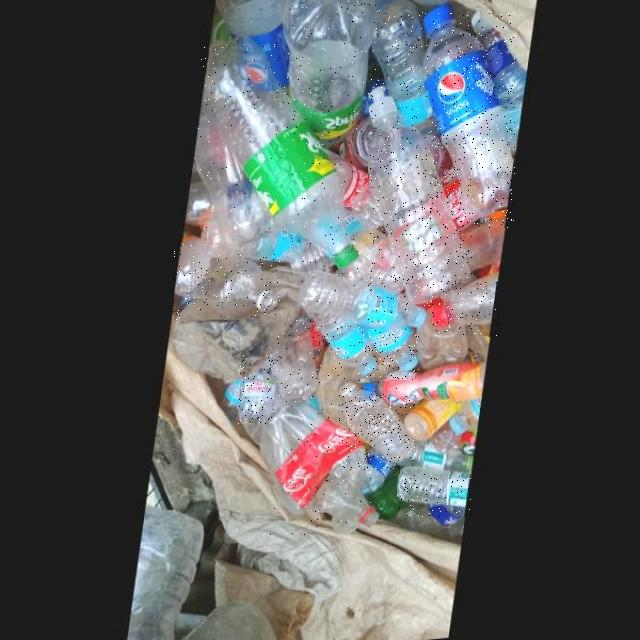plastic: (201, 41, 359, 276), (368, 93, 472, 313), (424, 13, 515, 227), (262, 404, 381, 534), (283, 1, 381, 156), (194, 111, 284, 254), (373, 8, 437, 142), (175, 242, 282, 320), (298, 276, 427, 337), (339, 388, 415, 470), (309, 320, 379, 383), (272, 315, 318, 407), (432, 282, 499, 337), (398, 474, 471, 517), (239, 354, 278, 424), (366, 334, 419, 380)
